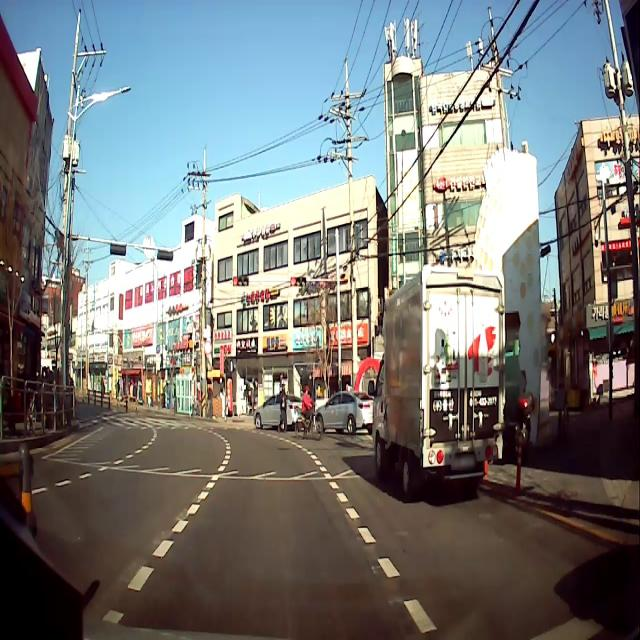Red Light: (290, 276, 296, 286), (233, 276, 238, 287)
